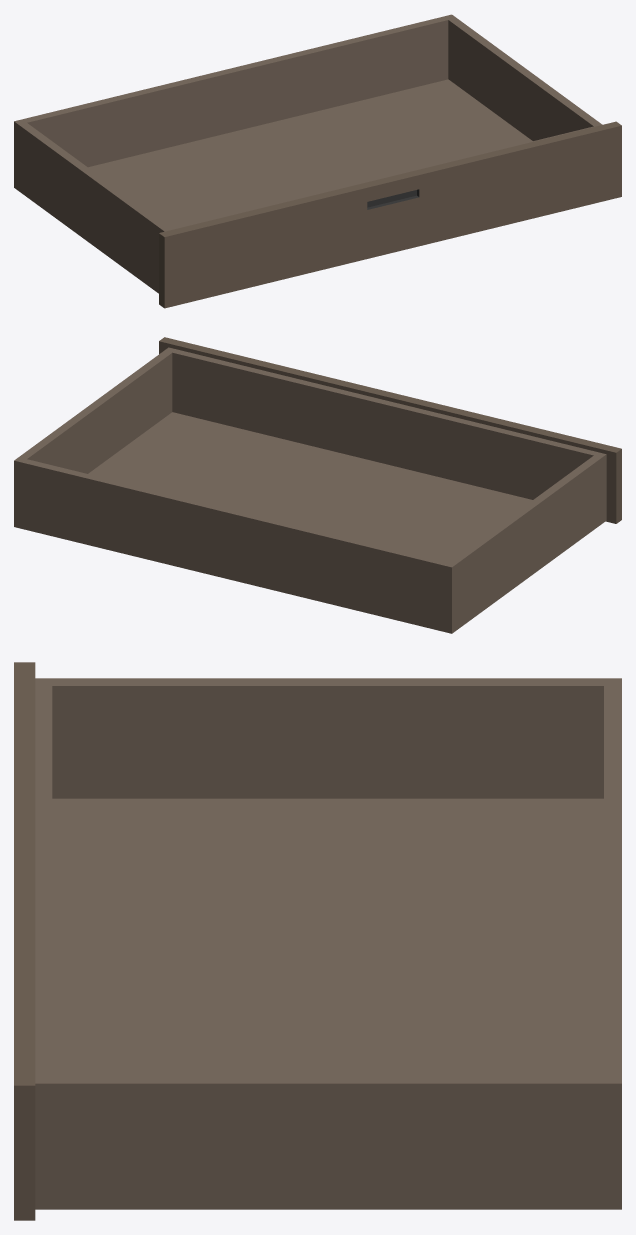
File: PC_Table2_C3_02.fbx
The picture shows the model from 3 angles, top to bottom: view 1: azimuth 30°, elevation 25°; view 2: azimuth 150°, elevation 25°; view 3: azimuth 270°, elevation 25°; orthographic projection. The views are drawn at different scales.
Parts seen in each view (by area): view 1: PC_Table2_C3_02; view 2: PC_Table2_C3_02; view 3: PC_Table2_C3_02.
Boxes of the visible parts, x1=… form: PC_Table2_C3_02: x1=14, y1=14, x2=621, y2=308; PC_Table2_C3_02: x1=14, y1=337, x2=621, y2=633; PC_Table2_C3_02: x1=14, y1=662, x2=621, y2=1220.
Size of the model in its own units: 94 by 14 by 57.05.
